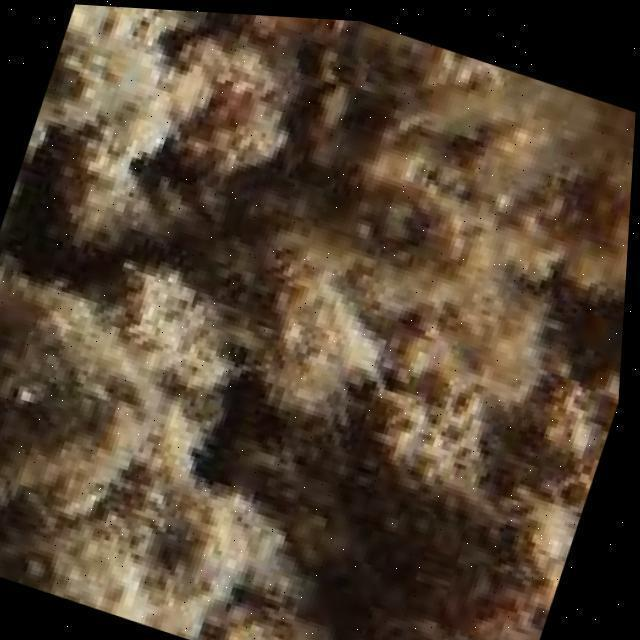Dead Coral: (11, 64, 606, 590)
